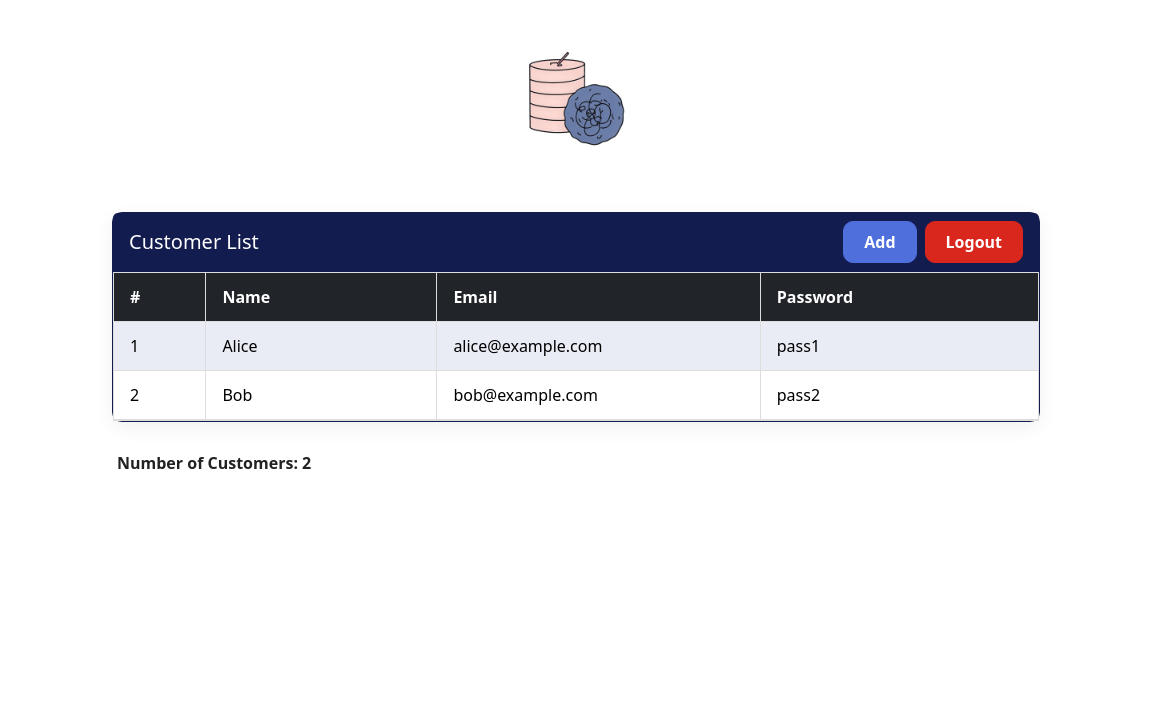
Changes in the style when a customer is selected › The buttons delete, save and cancel appears as required › Delete customer › removes the selected customer from the table when delete is clicked
Step 1. Click the text "Alice" → click(240, 346), box [222, 335, 258, 357]
(page scrolled)
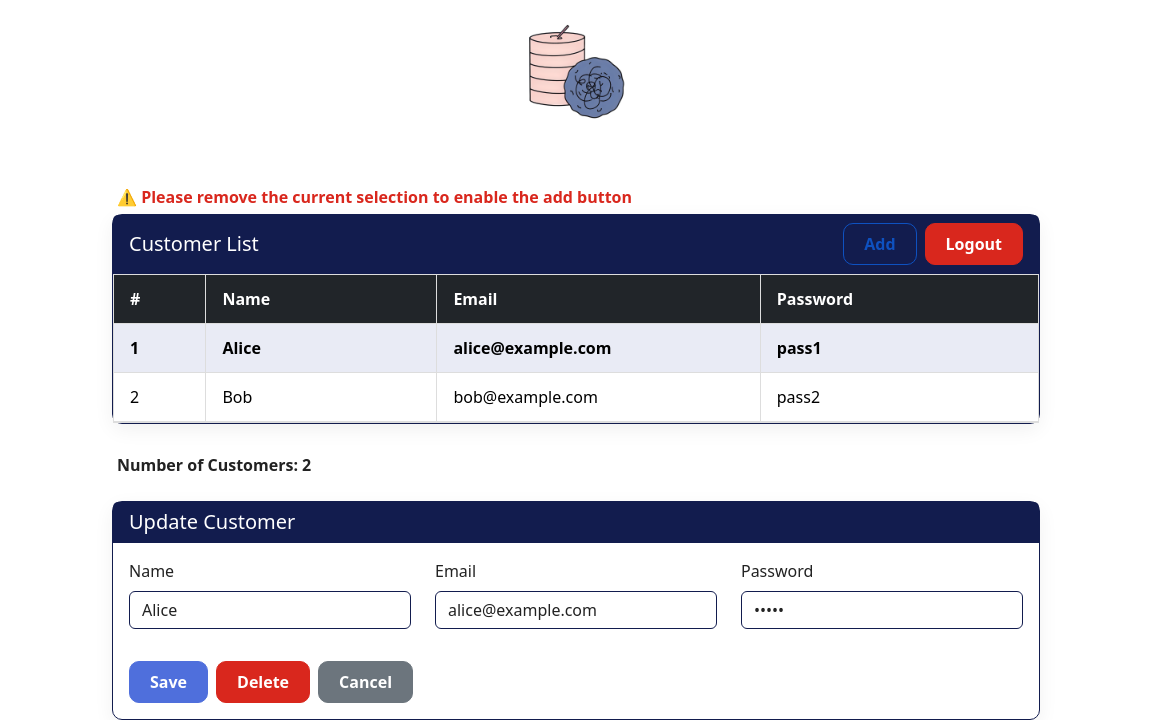
Step 2. Click the button "Delete" → click(263, 682), box [216, 661, 310, 703]
(page scrolled)
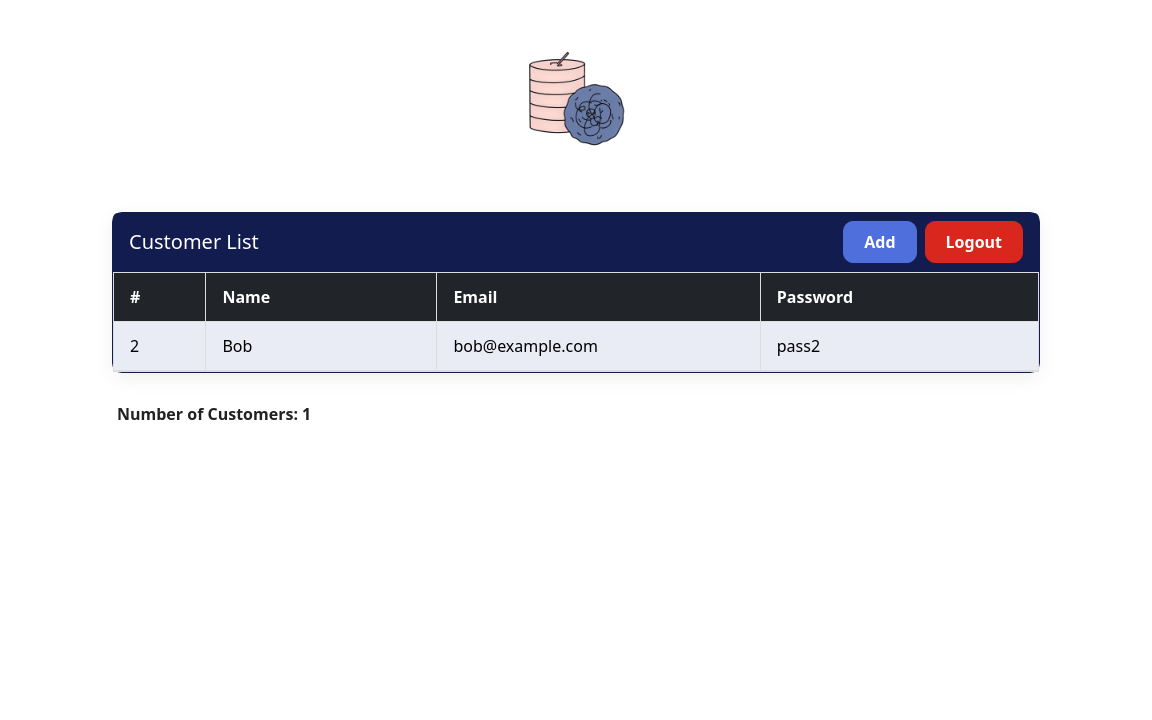
Expected: the text "Bob" is shown, [222, 335, 252, 357]
Expected: the text "Alice" is gone
